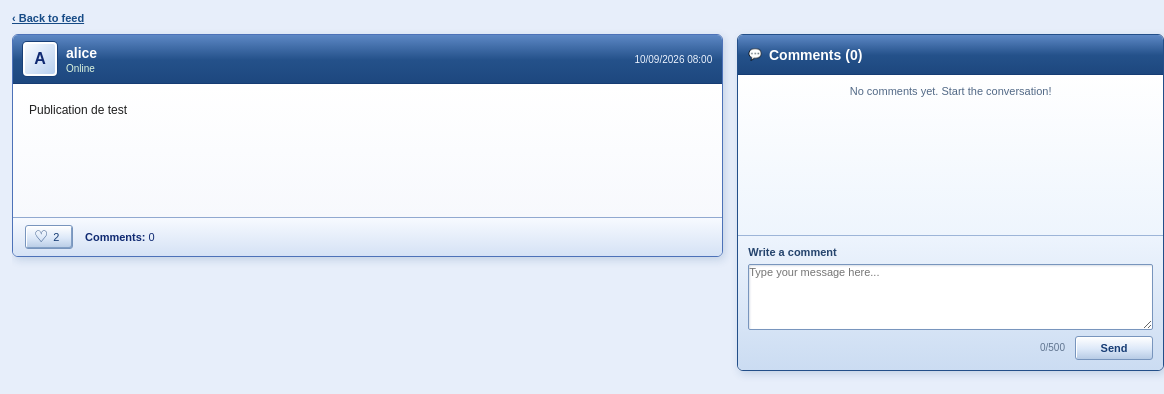
it: PostDetail › ajoute un commentaire dynamiquement
Expected: the text "Publication de test" is shown, [29,103,127,117]
In the text box labelled "Write a comment": (951, 297) [748,264,1153,330], type "Nouveau commentaire"
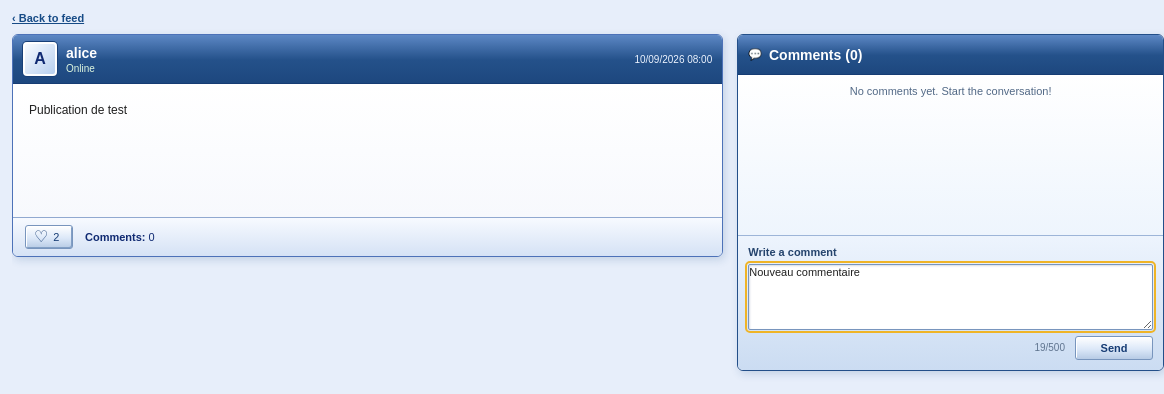
Click the button "Send": (1114, 348) [1075,336,1153,360]
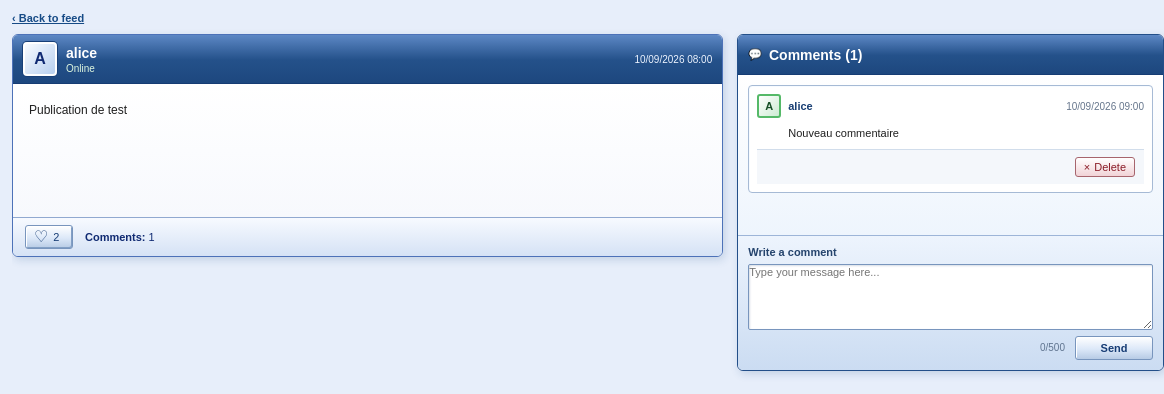
Result: the text "Nouveau commentaire" is shown at [788,127,899,139]
Result: the heading "Comments (1)" is shown at [769,46,862,62]
